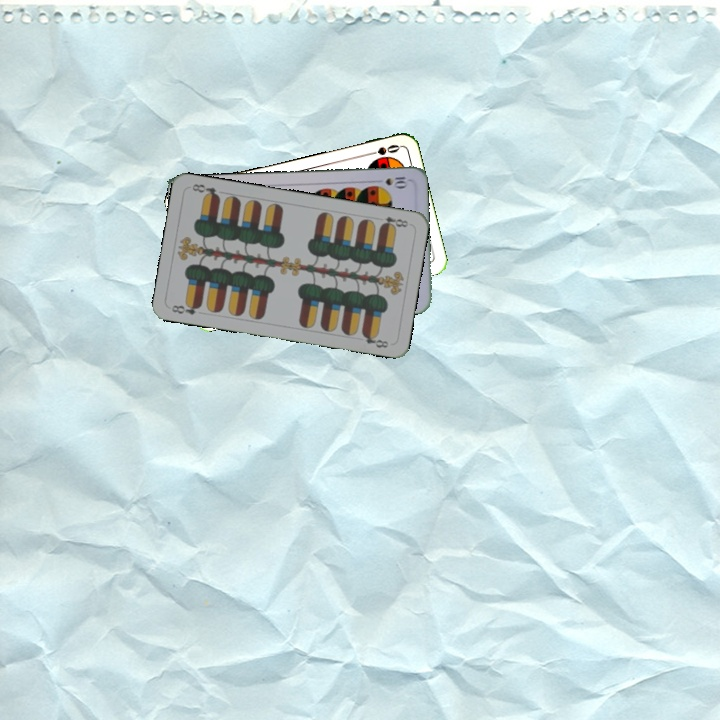E8: (377, 212, 413, 231), (168, 299, 204, 317)
S10: (371, 173, 410, 189)
SO: (362, 140, 402, 158)
